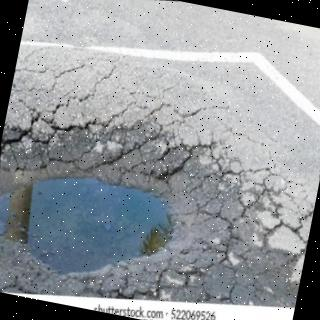pothole: (0, 115, 305, 297)
